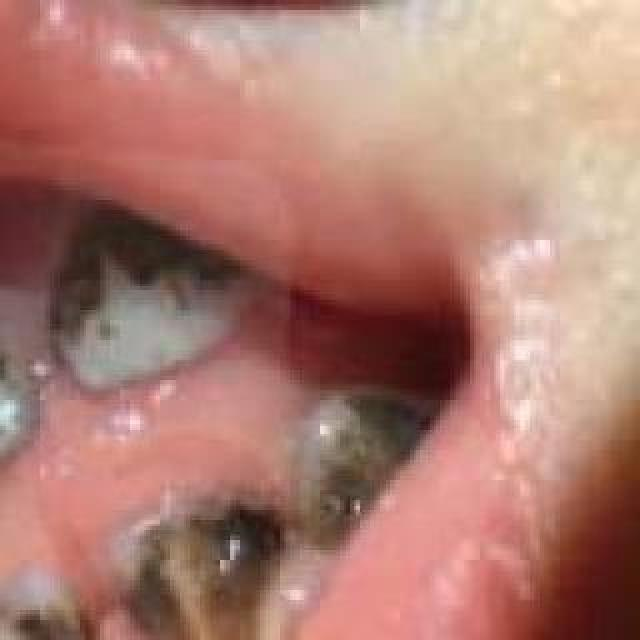spacing: (0, 286, 140, 454), (38, 522, 178, 640)
stains: (34, 180, 296, 376), (108, 476, 286, 640), (284, 382, 454, 510), (0, 334, 28, 480), (0, 602, 100, 640)
